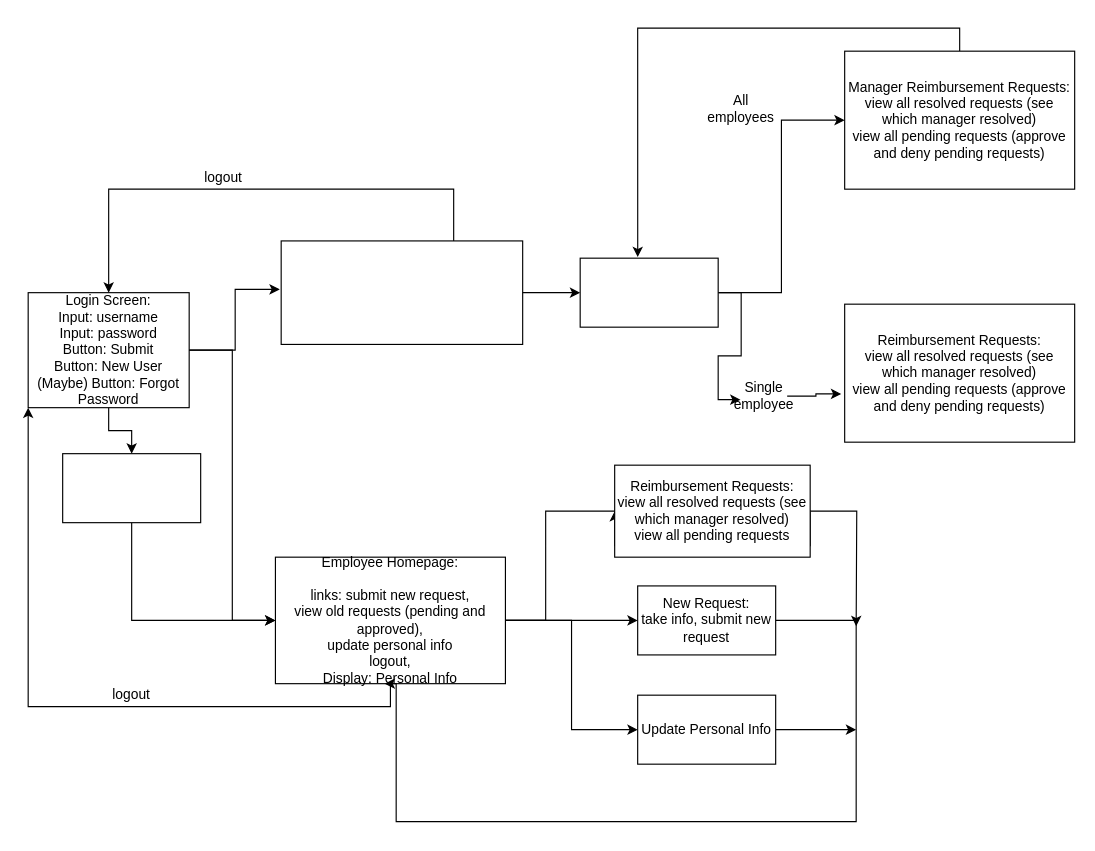
This 1095x851 diagram has some shape labels left out. The centre of each missing label's shape, as x and y in pixels:
"Manager Homepage: links: view reimbursement requests view all users logout" goes at [401,292].
"Manager View all Users: Display: all users" goes at [648,292].
"New User: enter username enter password populate all other info" goes at [131,488].
